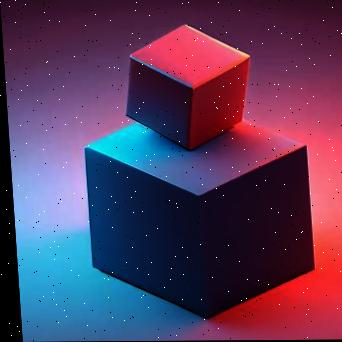cube: (120, 25, 253, 151)
